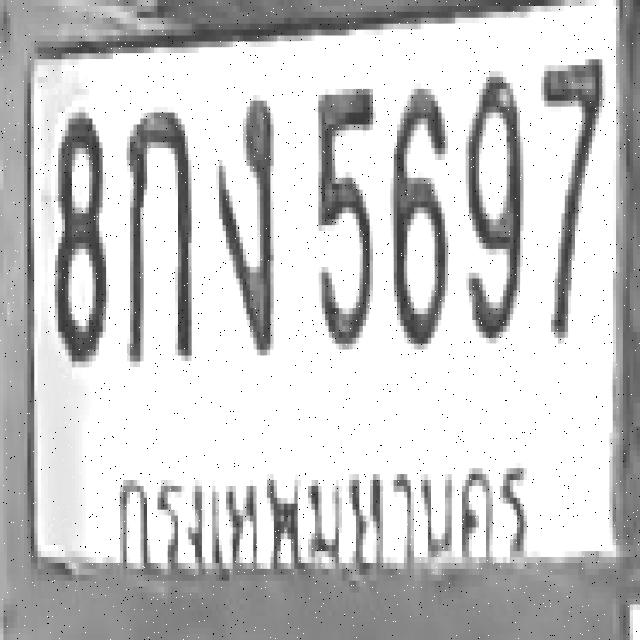10GorGai: (124, 101, 192, 361)
16NgorNgu: (212, 89, 274, 355)
5: (313, 83, 375, 350)
6: (390, 84, 445, 344)
7: (539, 54, 604, 344)
8: (51, 107, 106, 356)
9: (462, 68, 524, 340)
Bangkok: (102, 441, 548, 585)
